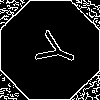Y: (25, 25, 81, 74)
